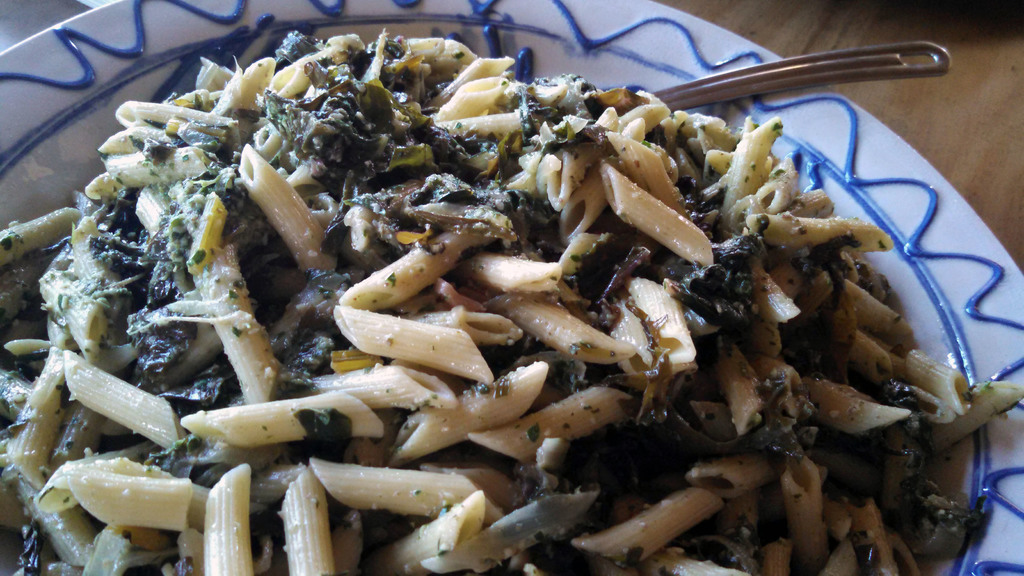pasta: (0, 0, 988, 576)
